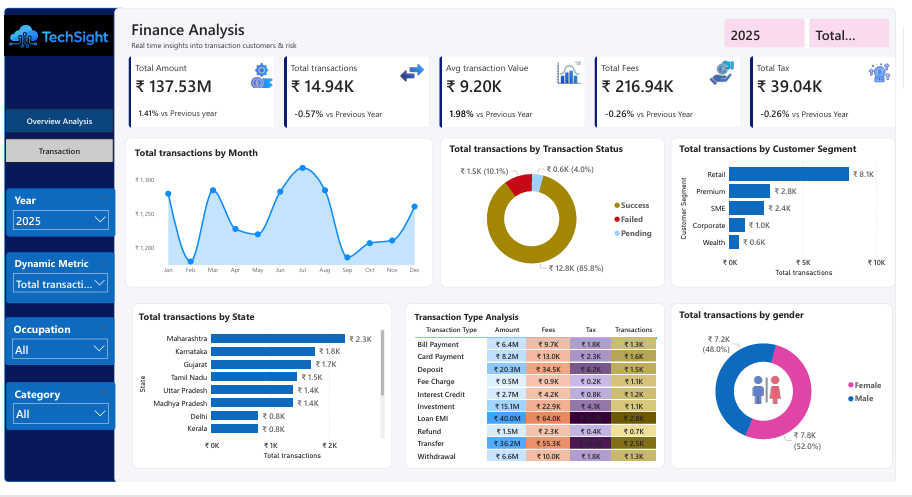

The dashboard page shown, as its layout file describes it:
{"tool":"powerbi","page":{"name":"Overview Analysis","canvas":[1800,950],"ordinal":0},"visuals":[{"type":"shape","box":[0,0,242,950],"z":0},{"type":"shape","box":[220,0,1564,952],"z":1000},{"type":"cardVisual","fields":{"Data":["finance_transactions.Dashboard Titel"]},"box":[237.3,0,400,105.1],"z":2000},{"type":"cardVisual","fields":{"Data":["finance_transactions.Total Amount","finance_transactions.Total transactions","finance_transactions.Avg transaction Value","finance_transactions.Total Fees","finance_transactions.Total Tax"]},"box":[242.5,91.2,1551.2,155],"z":3000},{"type":"slicer","fields":{"Values":["Calendar table.Year"]},"box":[4,362,218,96],"z":4000},{"type":"image","box":[490,112,50,50],"z":5000},{"type":"image","box":[791,105,50,50],"z":6000},{"type":"image","box":[1411,105,50,50],"z":7000},{"type":"image","box":[1105,105,50,50],"z":8000},{"type":"image","box":[1727,105,50,50],"z":9000},{"type":"slicer","fields":{"Values":["Dynamic Metric.Dynamic Metric"]},"box":[4,490,216,102],"z":10000},{"type":"shape","box":[242,260,616,300],"z":11000},{"type":"areaChart","fields":{"Y":["finance_transactions.Total transactions"],"Category":["Calendar table.Month"]},"box":[256,276,588,268],"z":12000},{"type":"cardVisual","fields":{"Data":["finance_transactions.Selected Year","finance_transactions.Selected Dynamic Measure"]},"box":[1436,16,342,70],"z":13000},{"type":"shape","box":[872,260,450,300],"z":14000},{"type":"donutChart","fields":{"Y":["finance_transactions.Total transactions"],"Category":["finance_transactions.transaction_status"]},"box":[886,268,424,284],"z":15000},{"type":"shape","box":[1334,260,450,300],"z":16000},{"type":"barChart","fields":{"Y":["finance_transactions.Total transactions"],"Category":["customers.customer_segment"]},"box":[1346,268,426,276],"z":17000},{"type":"shape","box":[256,592,520,332],"z":18000},{"type":"barChart","fields":{"Y":["finance_transactions.Total transactions"],"Category":["customers.state"]},"box":[264,606,502,304],"z":19000},{"type":"shape","box":[802,592,520,332],"z":20000},{"type":"tableEx","title":"Transaction Type Analysis","fields":{"Values":["finance_transactions.transaction_type","finance_transactions.Total Amount","finance_transactions.Total Fees","finance_transactions.Total Tax","finance_transactions.Total transactions"]},"box":[816,606,494,318],"z":21000},{"type":"shape","box":[1334,592,444,332],"z":22000},{"type":"donutChart","fields":{"Y":["finance_transactions.Total transactions"],"Category":["customers.gender"]},"box":[1346,602,424,308],"z":23000},{"type":"image","box":[1478,734,96,64],"z":24000},{"type":"slicer","fields":{"Values":["customers.occupation"]},"box":[2,620,218,96],"z":25000},{"type":"slicer","fields":{"Values":["finance_transactions.merchant_category"]},"box":[4,750,218,96],"z":26000},{"type":"pageNavigator","box":[2,202,216,108],"z":27000},{"type":"image","box":[0,0,216,112],"z":28000}]}

Visuals, with their boxes on the page's 1800x950 design canvas (x1, y1, x2, y2). These are canvas units, not pixel positions in the 912x497 screenshot, which may show the page scaled, cropped or inside an application window:
shape: <region>0, 0, 242, 950</region>
shape: <region>220, 0, 1784, 952</region>
cardVisual - finance_transactions.Dashboard Titel: <region>237, 0, 637, 105</region>
cardVisual - finance_transactions.Total Amount x finance_transactions.Total transactions: <region>242, 91, 1794, 246</region>
slicer - Calendar table.Year: <region>4, 362, 222, 458</region>
image: <region>490, 112, 540, 162</region>
image: <region>791, 105, 841, 155</region>
image: <region>1411, 105, 1461, 155</region>
image: <region>1105, 105, 1155, 155</region>
image: <region>1727, 105, 1777, 155</region>
slicer - Dynamic Metric.Dynamic Metric: <region>4, 490, 220, 592</region>
shape: <region>242, 260, 858, 560</region>
areaChart - finance_transactions.Total transactions x Calendar table.Month: <region>256, 276, 844, 544</region>
cardVisual - finance_transactions.Selected Year x finance_transactions.Selected Dynamic Measure: <region>1436, 16, 1778, 86</region>
shape: <region>872, 260, 1322, 560</region>
donutChart - finance_transactions.Total transactions x finance_transactions.transaction_status: <region>886, 268, 1310, 552</region>
shape: <region>1334, 260, 1784, 560</region>
barChart - finance_transactions.Total transactions x customers.customer_segment: <region>1346, 268, 1772, 544</region>
shape: <region>256, 592, 776, 924</region>
barChart - finance_transactions.Total transactions x customers.state: <region>264, 606, 766, 910</region>
shape: <region>802, 592, 1322, 924</region>
"Transaction Type Analysis" tableEx: <region>816, 606, 1310, 924</region>
shape: <region>1334, 592, 1778, 924</region>
donutChart - finance_transactions.Total transactions x customers.gender: <region>1346, 602, 1770, 910</region>
image: <region>1478, 734, 1574, 798</region>
slicer - customers.occupation: <region>2, 620, 220, 716</region>
slicer - finance_transactions.merchant_category: <region>4, 750, 222, 846</region>
pageNavigator: <region>2, 202, 218, 310</region>
image: <region>0, 0, 216, 112</region>
